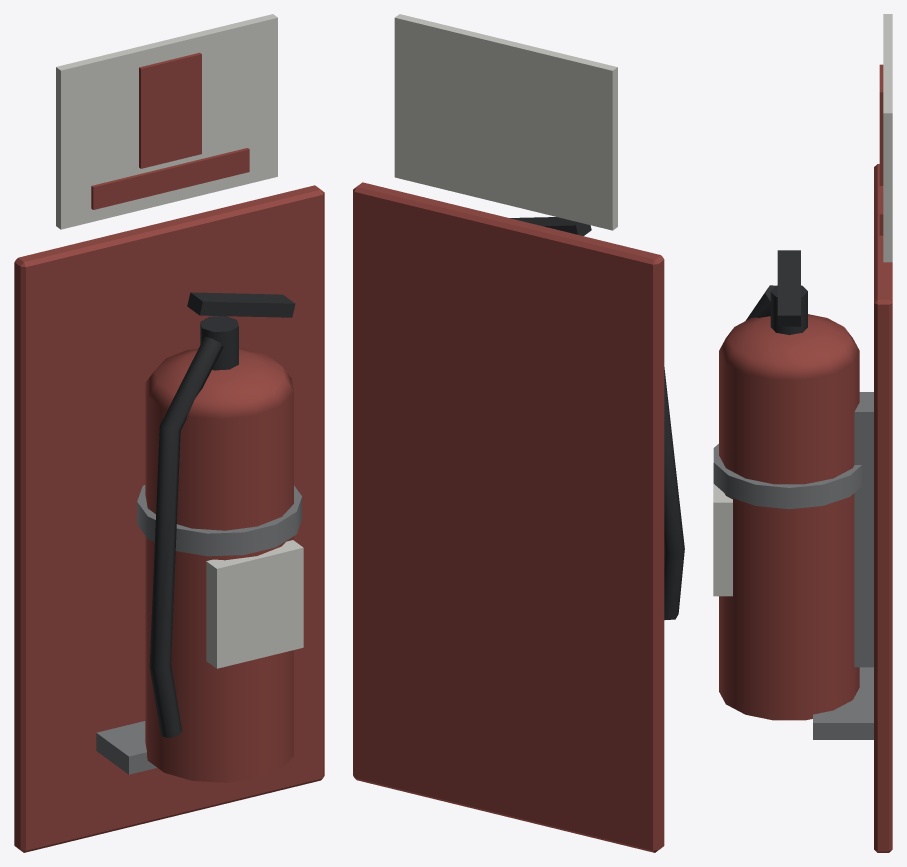
File: astro_fire_extinguisher_mount.fbx
3 views of the same model, side by side, from view 1: azimuth 30°, elevation 25°; view 2: azimuth 150°, elevation 25°; view 3: azimuth 270°, elevation 25° (orthographic). The views are drawn at different scales.
Visible parts, largest first — view 1: FireExtinguisherMount_Body; view 2: FireExtinguisherMount_Body; view 3: FireExtinguisherMount_Body.
Boxes of the visible parts, left/top/right/bottom form: FireExtinguisherMount_Body: left=14, top=14, right=324, bottom=852; FireExtinguisherMount_Body: left=353, top=14, right=684, bottom=852; FireExtinguisherMount_Body: left=713, top=14, right=892, bottom=852.
Bounding box in the file's own units: 70 × 169 × 38.2.
